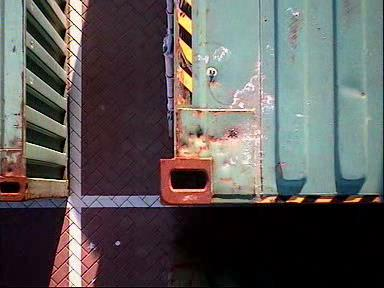groundmarker_2: (161, 125, 250, 238)
